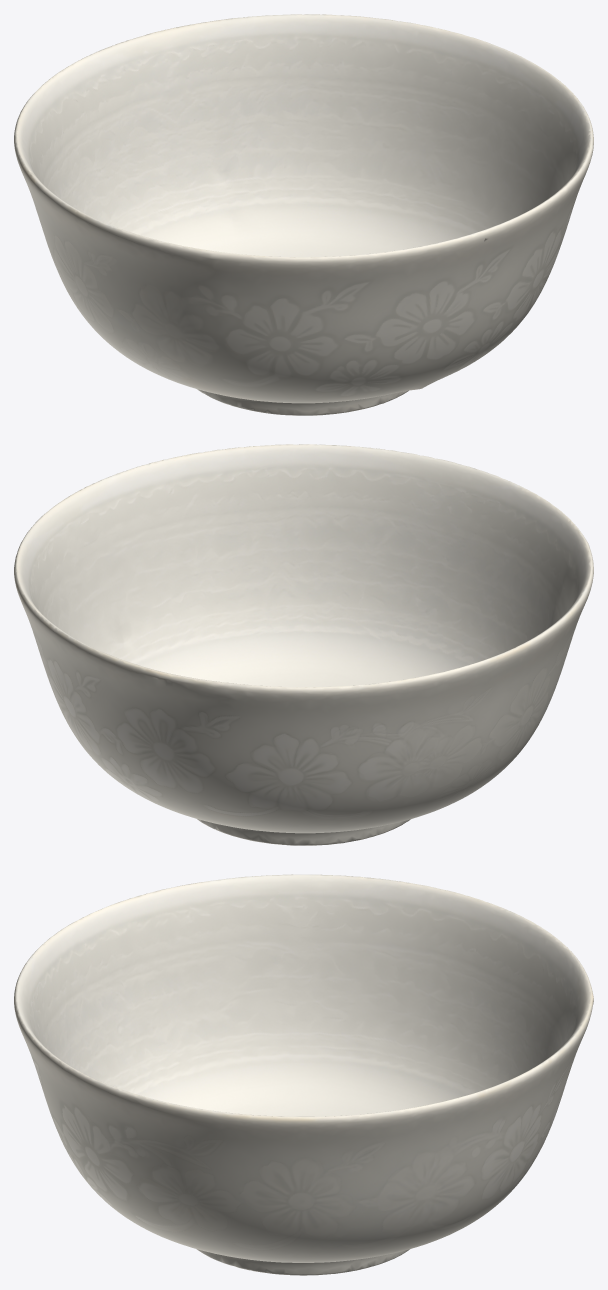
The model's file is cousin_8.glb.
3 renders of one model, top to bottom at view 1: azimuth 30°, elevation 25°; view 2: azimuth 150°, elevation 25°; view 3: azimuth 270°, elevation 25°, orthographic.
Size of the model in its own units: 1.91 by 0.8324 by 1.91.
Materials: 1 (1 with a texture image).
